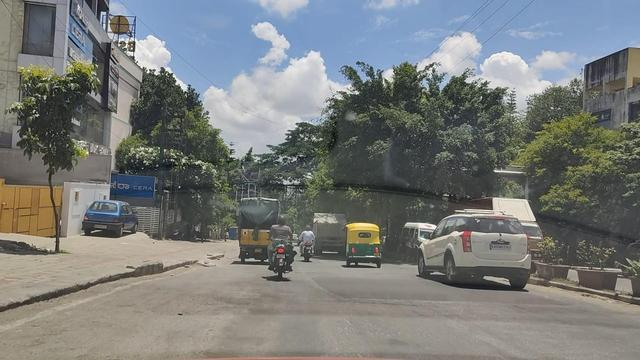HMV: (233, 192, 283, 263), (304, 193, 353, 260)
RoadDamages: (315, 281, 400, 329)
